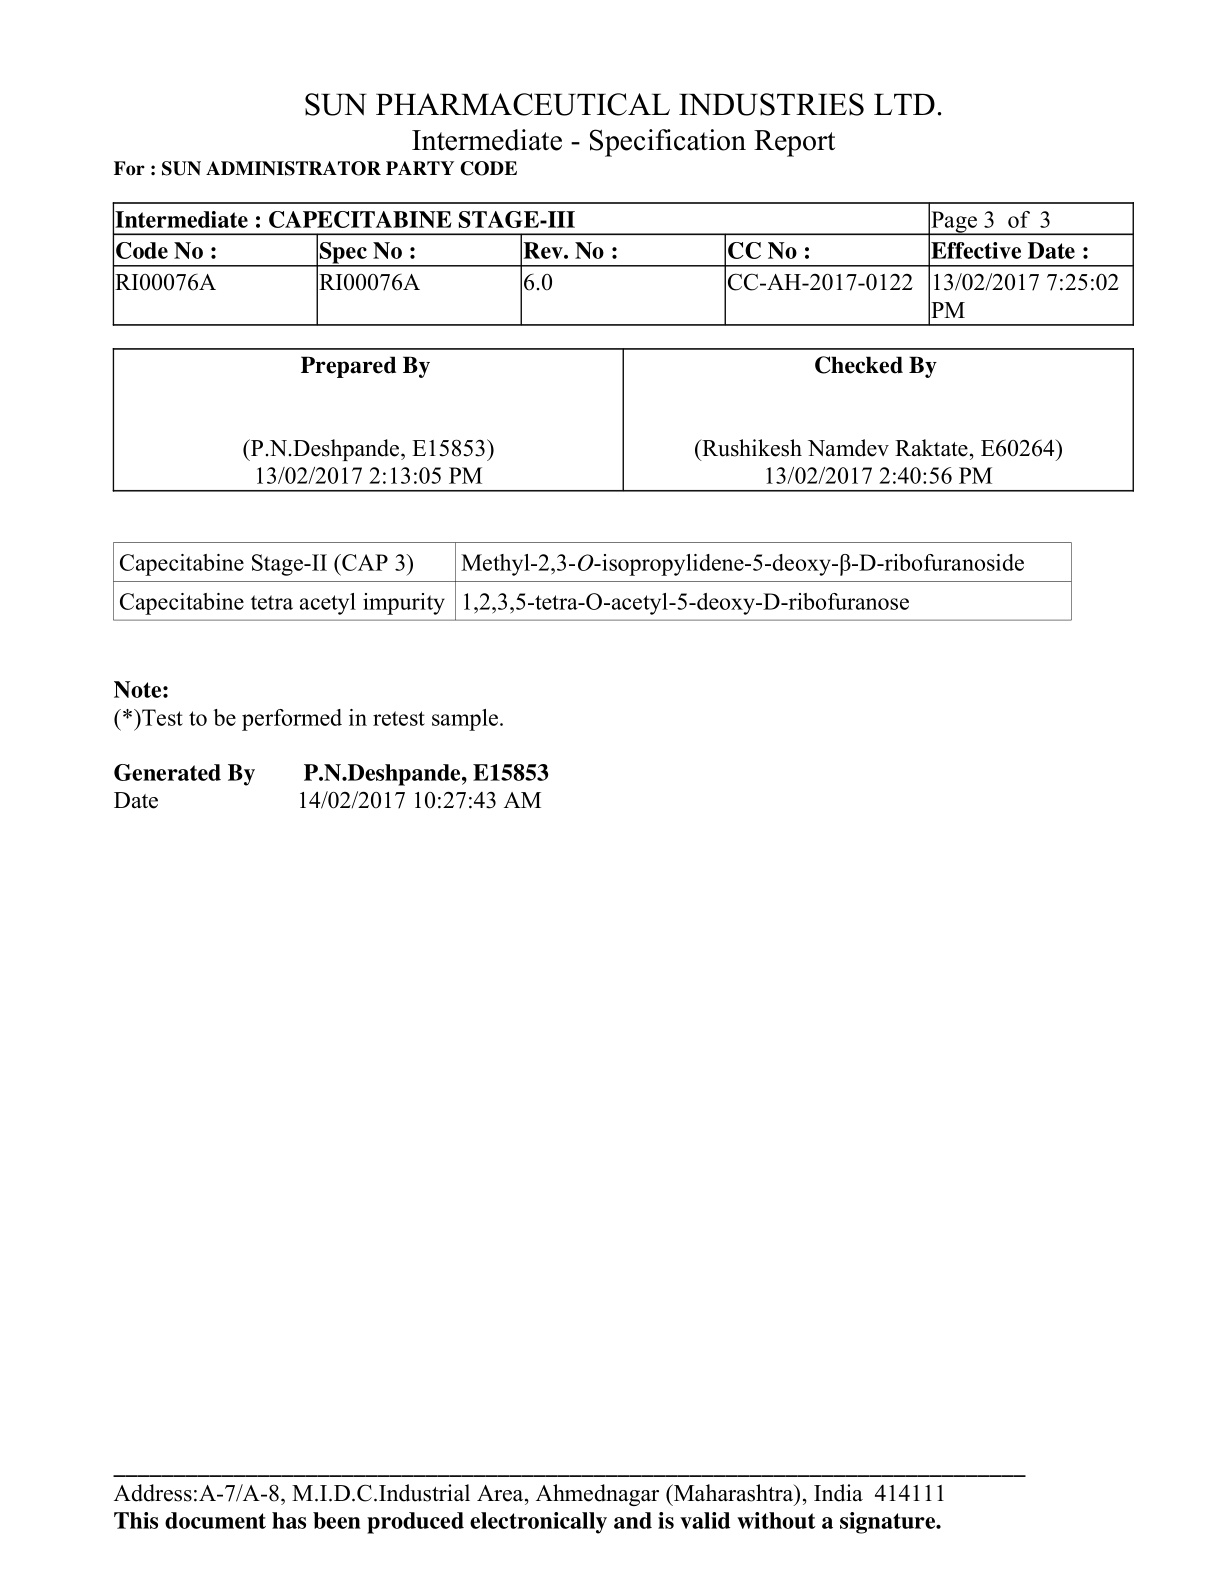full_lined: (112, 347, 1134, 492), (112, 543, 1072, 621)
merged_cells: (112, 201, 1134, 327)
